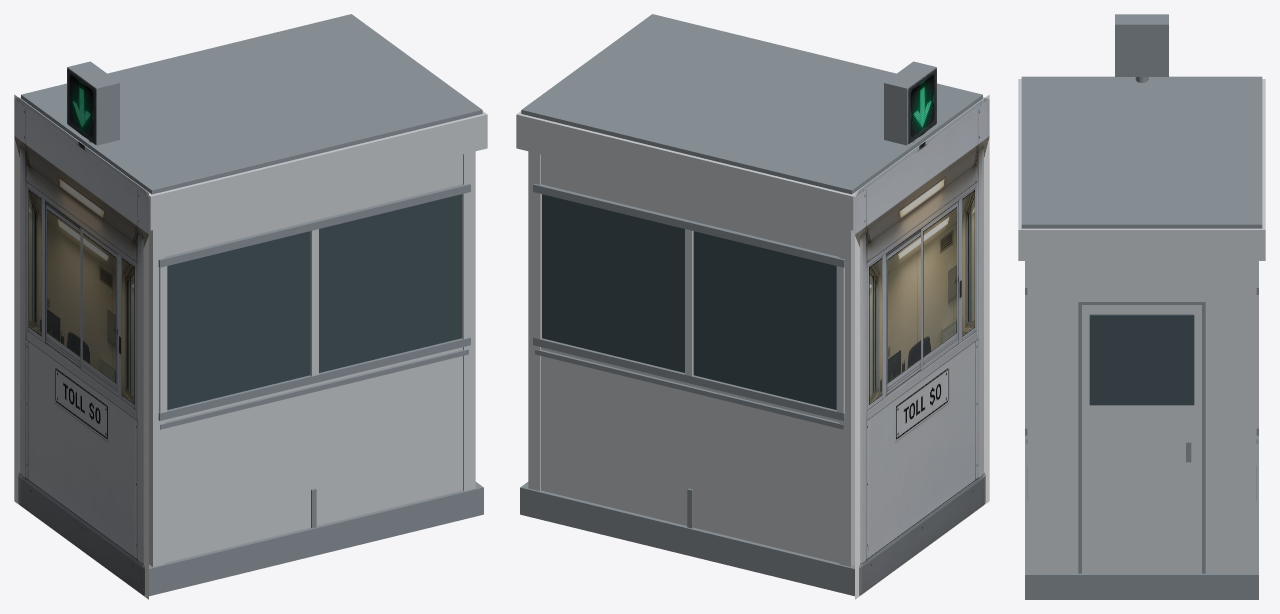
Rendered from toll_booth_r3.glb.
3 renders of one model, left to right at view 1: azimuth 30°, elevation 25°; view 2: azimuth 150°, elevation 25°; view 3: azimuth 270°, elevation 25°, orthographic. The views are drawn at different scales.
Visible parts, largest first — view 1: toll_booth_r3; view 2: toll_booth_r3; view 3: toll_booth_r3.
Part boxes in pixels (x1,y1,x2,y2): toll_booth_r3: (14,14,487,599); toll_booth_r3: (516,14,989,599); toll_booth_r3: (1018,14,1265,599).
Size of the model in its own units: 2.63 by 3.48 by 1.8.
Materials: 4 (1 with a texture image).
